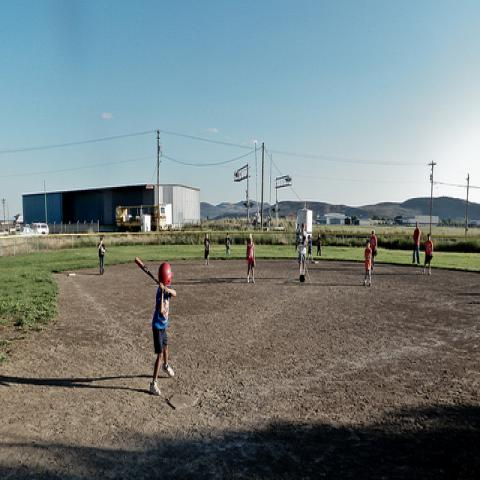car: (17, 227, 40, 236), (31, 223, 49, 234), (313, 221, 320, 225)
